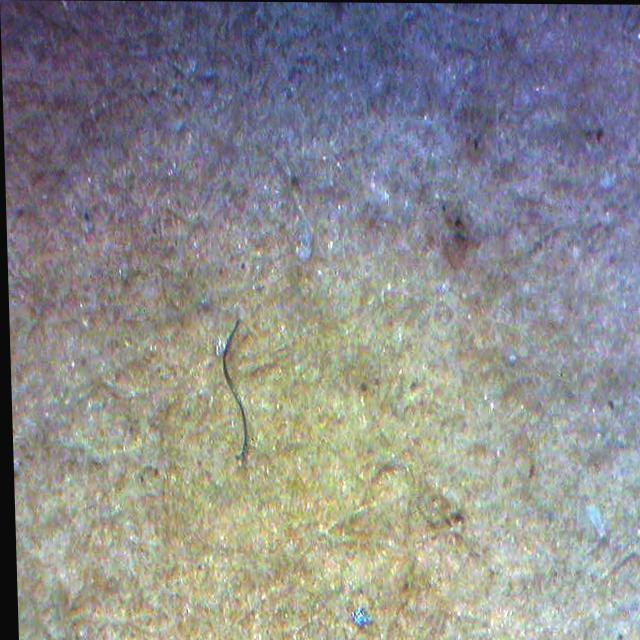microplastic: (219, 317, 245, 462)
